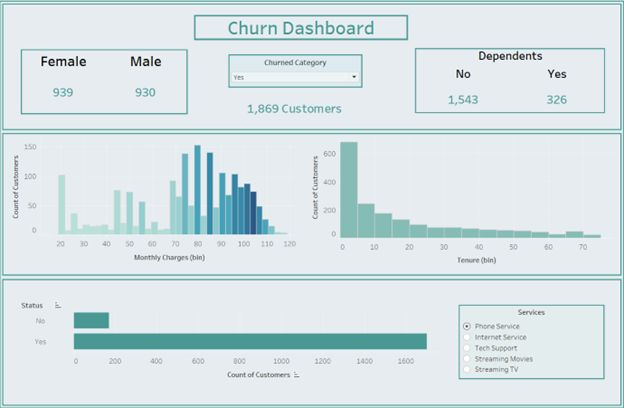

This screenshot's page, from the dashboard's own definition file:
{"tool":"tableau","page":{"name":"Churn Dashboard","canvas":[1296,721],"ordinal":0},"visuals":[{"type":"text","box":[391,28,447,56]},{"type":"worksheet","title":"Gender","mark":"Automatic","cols":["gender"],"box":[21,60,347,143]},{"type":"worksheet","title":"Dependents","mark":"Automatic","cols":["Dependents"],"box":[861,61,396,143]},{"type":"filter","title":"Churned","param":"[federated.00rv16m1a790rt12j3hhy0vndn1g].[none:Churn:nk]","box":[477.2,95.7,279.2,73.3]},{"type":"worksheet","title":"Churned","mark":"Automatic","cols":["Churn"],"box":[509,136,220,70]},{"type":"worksheet","title":"Tenure","mark":"Bar","rows":["WA!Fn-UseC!-Telco-Customer-Chur_29FA972C68E74966A4A5CFF78972"],"cols":["Tenure (bin)"],"box":[669,228,592,244]},{"type":"worksheet","title":"Monthly Charges","mark":"Automatic","rows":["WA!Fn-UseC!-Telco-Customer-Chur_29FA972C68E74966A4A5CFF78972"],"cols":["Monthly Charges (bin)"],"box":[22,229,567,238]},{"type":"worksheet","title":"Services","mark":"Automatic","rows":["Calculation_1320680654562873345"],"cols":["WA!Fn-UseC!-Telco-Customer-Chur_29FA972C68E74966A4A5CFF78972"],"box":[20,499,909,186]},{"type":"parameter","param":"[Parameters].[Parameter 1]","box":[953,507,304,164]}]}

Visuals, with their boxes on the page's 1296x721 design canvas (x1, y1, x2, y2). These are canvas units, not pixel positions in the 624x408 screenshot, which may show the page scaled, cropped or inside an application window:
text: (391,28,838,84)
"Gender" worksheet: (21,60,368,203)
"Dependents" worksheet: (861,61,1257,204)
"Churned" filter: (477,96,756,169)
"Churned" worksheet: (509,136,729,206)
"Tenure" worksheet (Bar marks): (669,228,1261,472)
"Monthly Charges" worksheet: (22,229,589,467)
"Services" worksheet: (20,499,929,685)
parameter: (953,507,1257,671)
